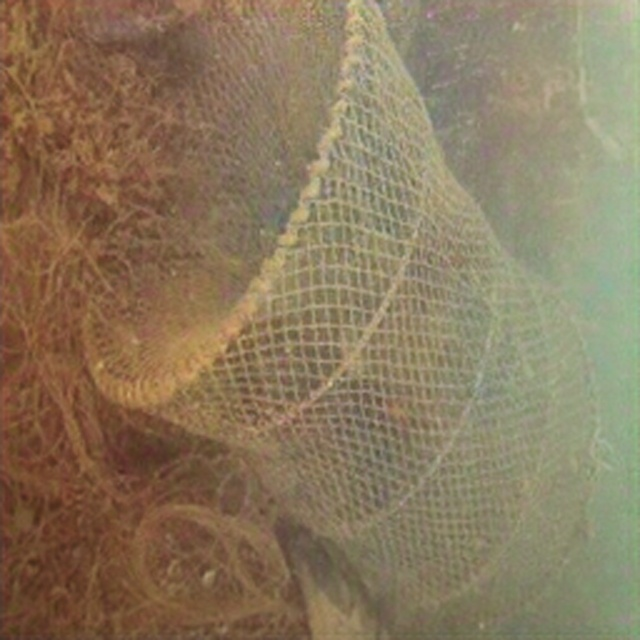mine: (79, 0, 601, 630)
